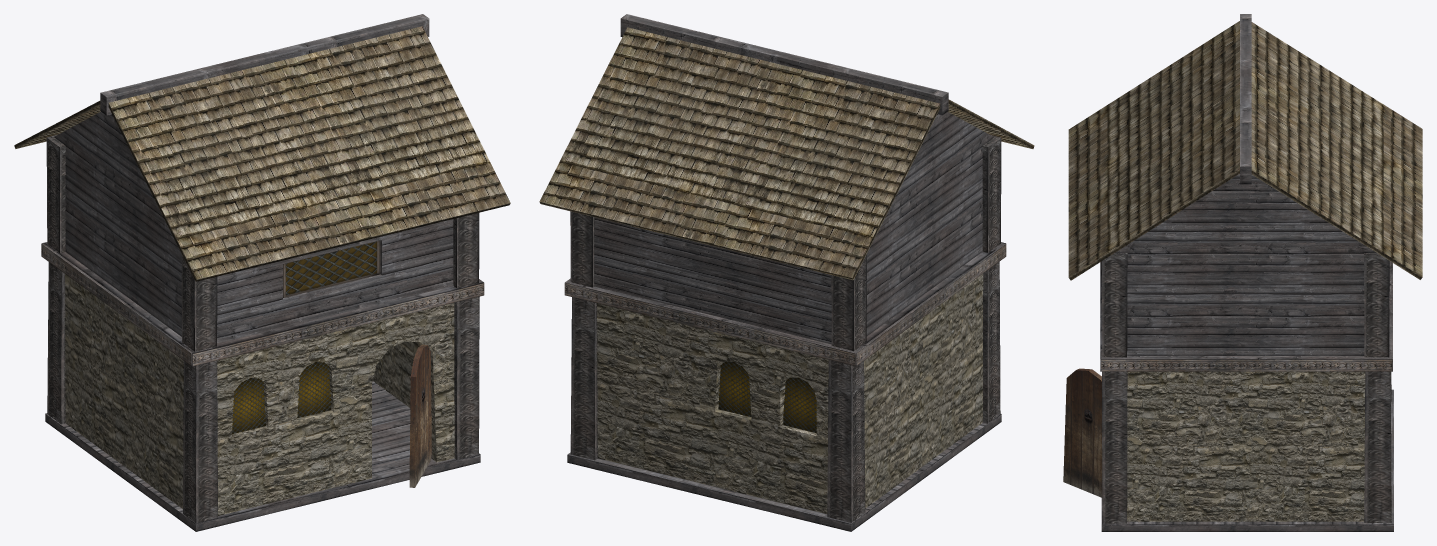
The model's file is v3_house5_LOD2.dae.
3 views of the same model, side by side, from view 1: azimuth 30°, elevation 25°; view 2: azimuth 150°, elevation 25°; view 3: azimuth 270°, elevation 25° (orthographic). The views are drawn at different scales.
Visible parts, largest first — view 1: roof_01, bricks_old_03, WoodPlanks, WoodPlanks_ornaments, windows2_c, dorwindow_set; view 2: roof_01, bricks_old_03, WoodPlanks, WoodPlanks_ornaments, windows2_c; view 3: roof_01, WoodPlanks, bricks_old_03, WoodPlanks_ornaments, dorwindow_set.
Part boxes in pixels (left/top/right/bottom): roof_01: left=14, top=26, right=510, bottom=281; bricks_old_03: left=65, top=274, right=454, bottom=515; WoodPlanks: left=45, top=14, right=480, bottom=531; WoodPlanks_ornaments: left=41, top=135, right=484, bottom=523; windows2_c: left=232, top=240, right=380, bottom=434; dorwindow_set: left=409, top=344, right=431, bottom=487; roof_01: left=539, top=27, right=1034, bottom=280; bricks_old_03: left=597, top=274, right=983, bottom=513; WoodPlanks: left=567, top=14, right=1001, bottom=531; WoodPlanks_ornaments: left=564, top=135, right=1006, bottom=522; windows2_c: left=718, top=361, right=816, bottom=433; roof_01: left=1068, top=21, right=1422, bottom=280; WoodPlanks: left=1101, top=14, right=1393, bottom=531; bricks_old_03: left=1127, top=371, right=1365, bottom=521; WoodPlanks_ornaments: left=1100, top=253, right=1392, bottom=523; dorwindow_set: left=1063, top=368, right=1102, bottom=497.
Size of the model in its own units: 4.97 by 5.7 by 4.95.
